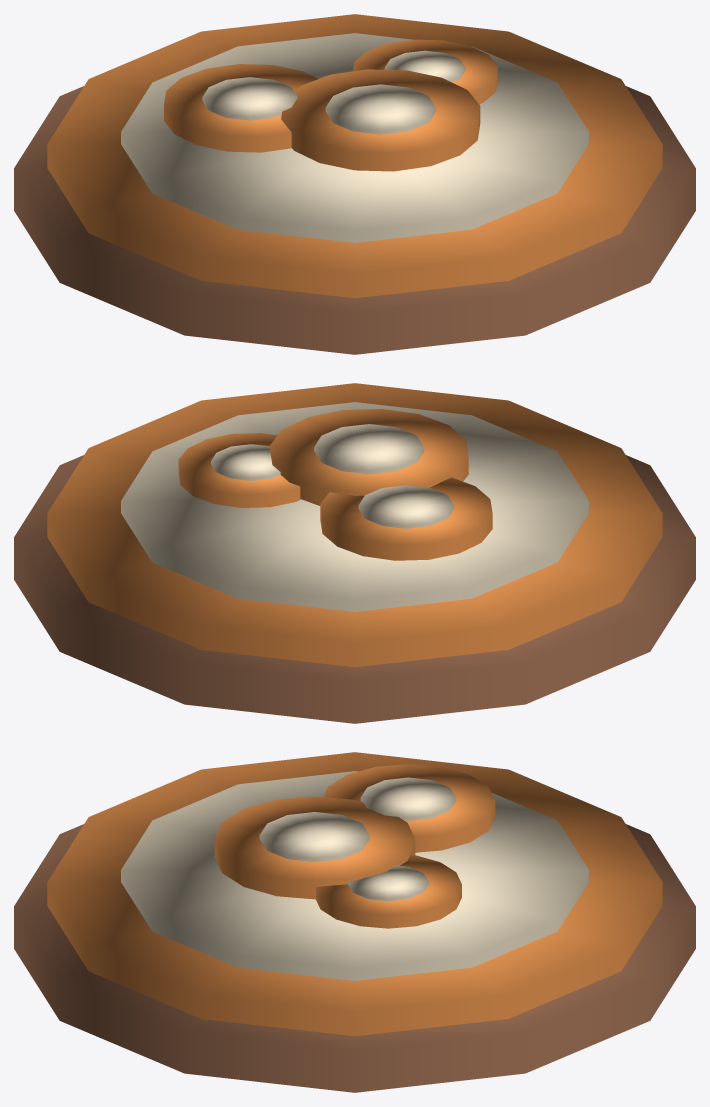
The model's file is pad_upgrade.glb.
3 views of the same model, one above another, from view 1: azimuth 30°, elevation 25°; view 2: azimuth 150°, elevation 25°; view 3: azimuth 270°, elevation 25° (orthographic).
Parts seen in each view (by area): view 1: pad_pad_upgrade; view 2: pad_pad_upgrade; view 3: pad_pad_upgrade.
Boxes of the visible parts, bbox=[...] form: pad_pad_upgrade: bbox=[14, 14, 695, 354]; pad_pad_upgrade: bbox=[14, 383, 695, 723]; pad_pad_upgrade: bbox=[14, 752, 695, 1092].
Size of the model in its own units: 2.04 by 0.384 by 2.04.
